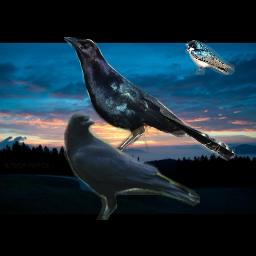Crow: (64, 37, 235, 169), (64, 110, 200, 220)
Swallow: (185, 40, 235, 75)
